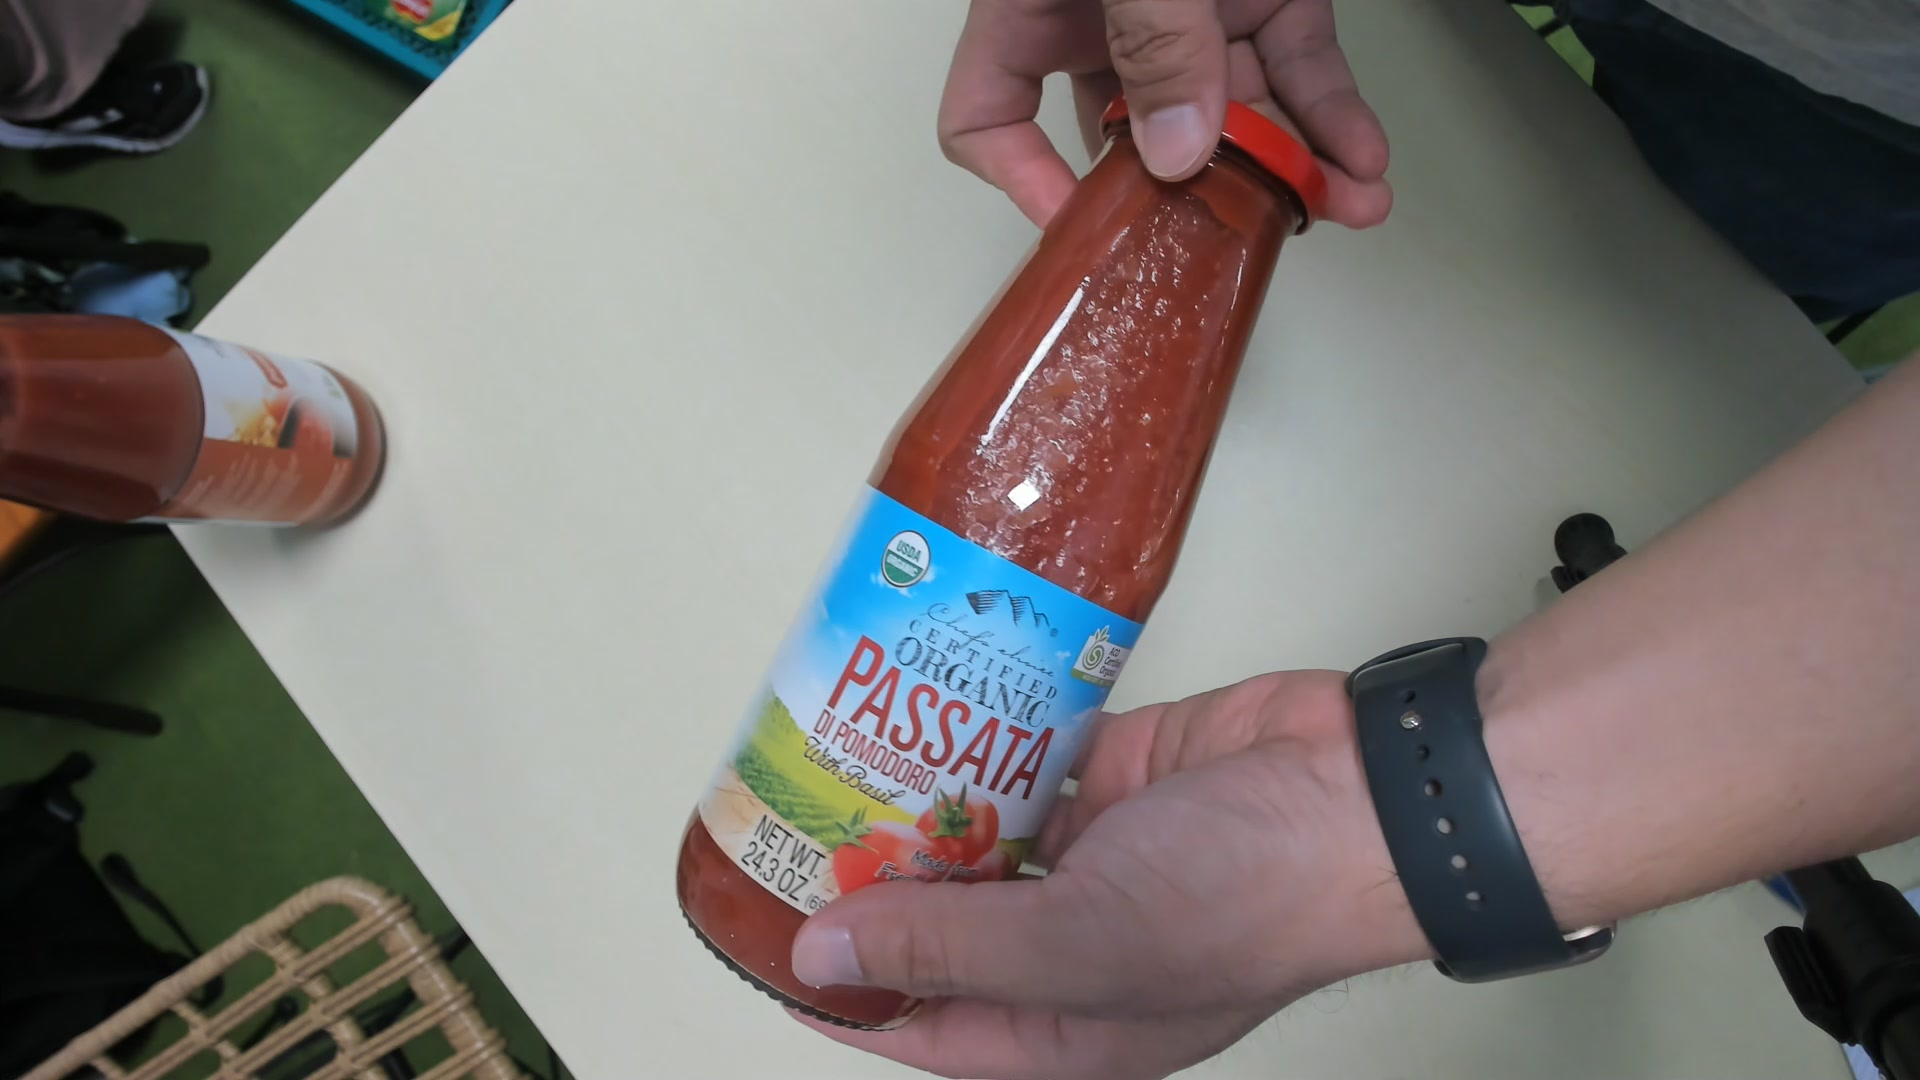PastaSauce_600-699g_NonHalal_NonHealthy: (673, 90, 1328, 1034)
